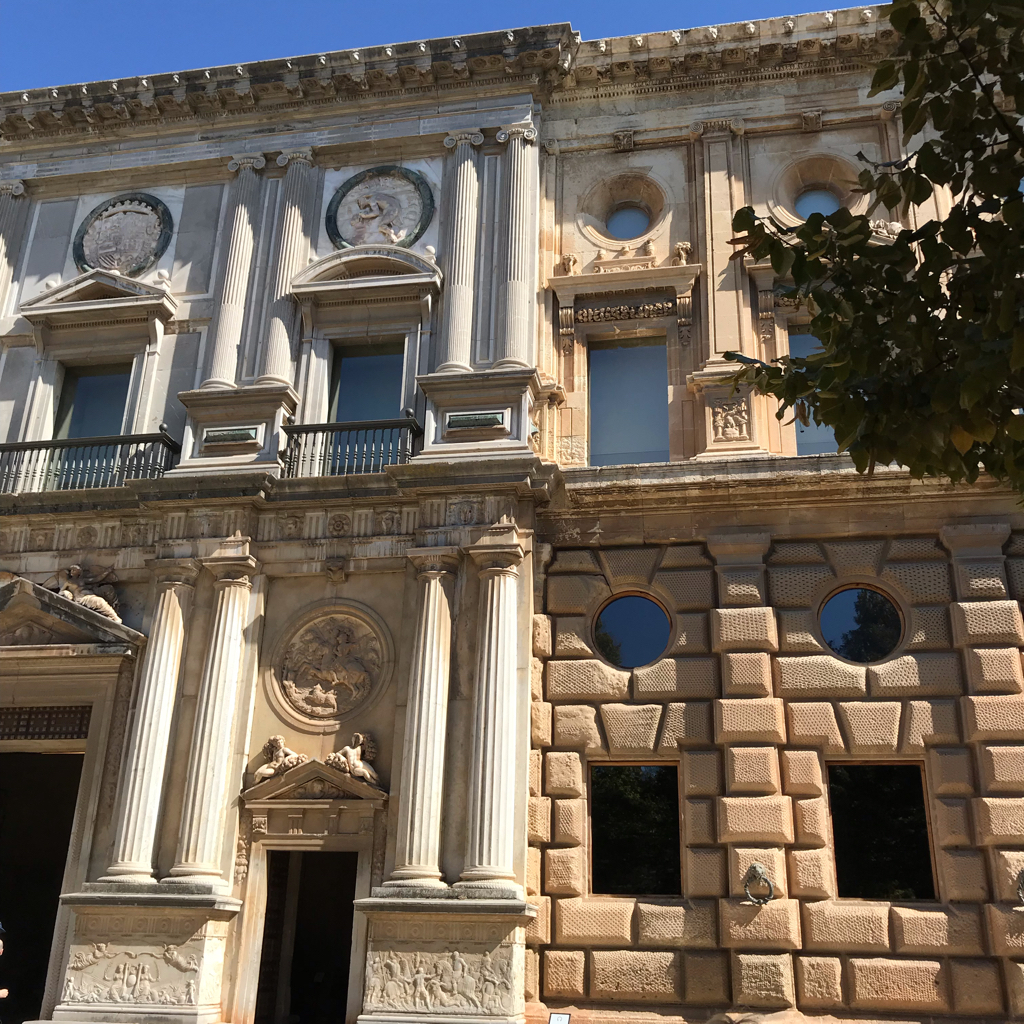fronton: (1, 573, 151, 664), (16, 263, 169, 318), (240, 756, 387, 810)
fronton-curvo: (289, 239, 445, 295)
ojo-de-buey: (815, 574, 913, 665), (585, 586, 680, 674), (580, 168, 669, 239), (769, 152, 861, 219)
vano-adintelado: (233, 830, 377, 1024), (298, 311, 424, 478), (570, 311, 696, 468), (25, 336, 151, 489)
